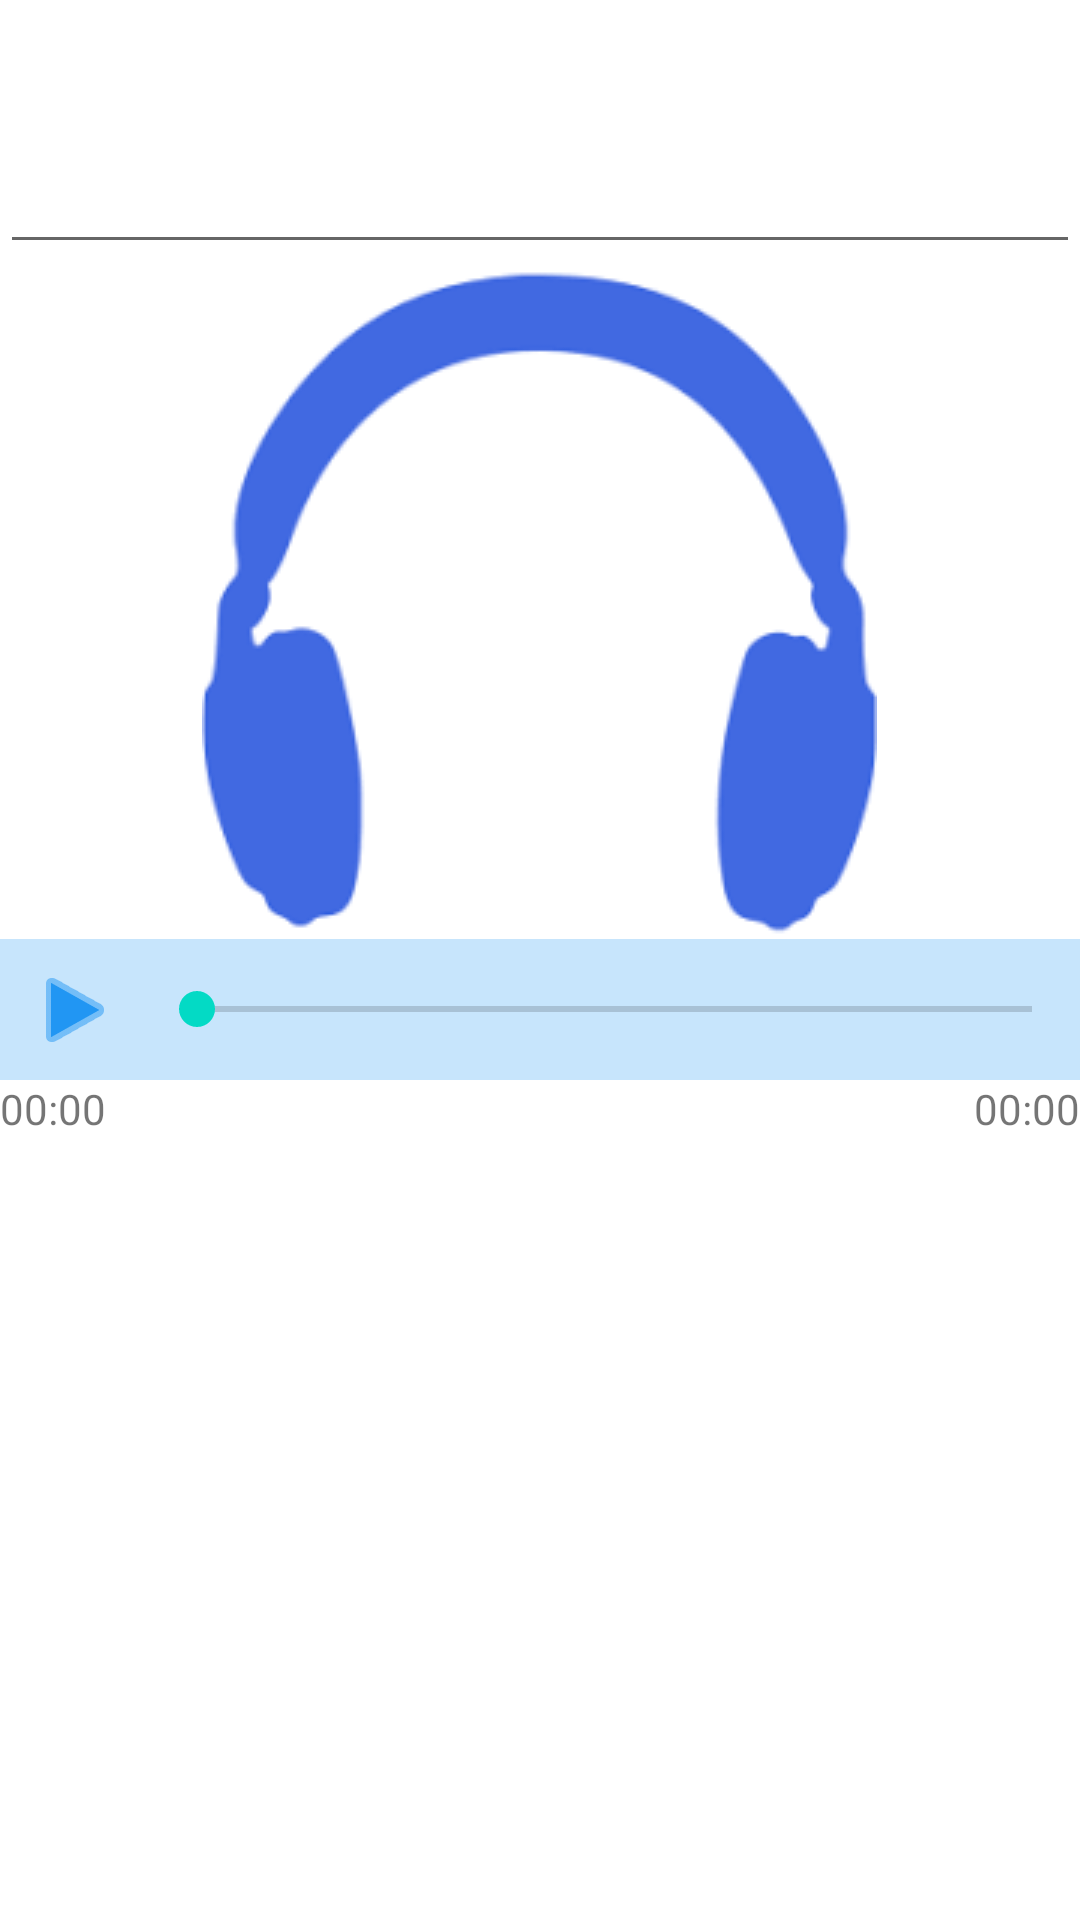

Named icons in this screenshot (1080px×1920px) and their bounding boxes, (x1, y1, x2, y2):
play: (46, 978, 104, 1042)
